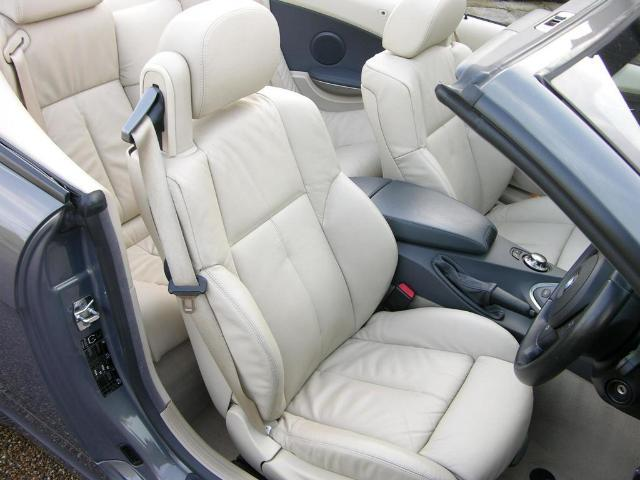Seatbelt: (125, 115, 268, 435), (10, 44, 44, 134)
